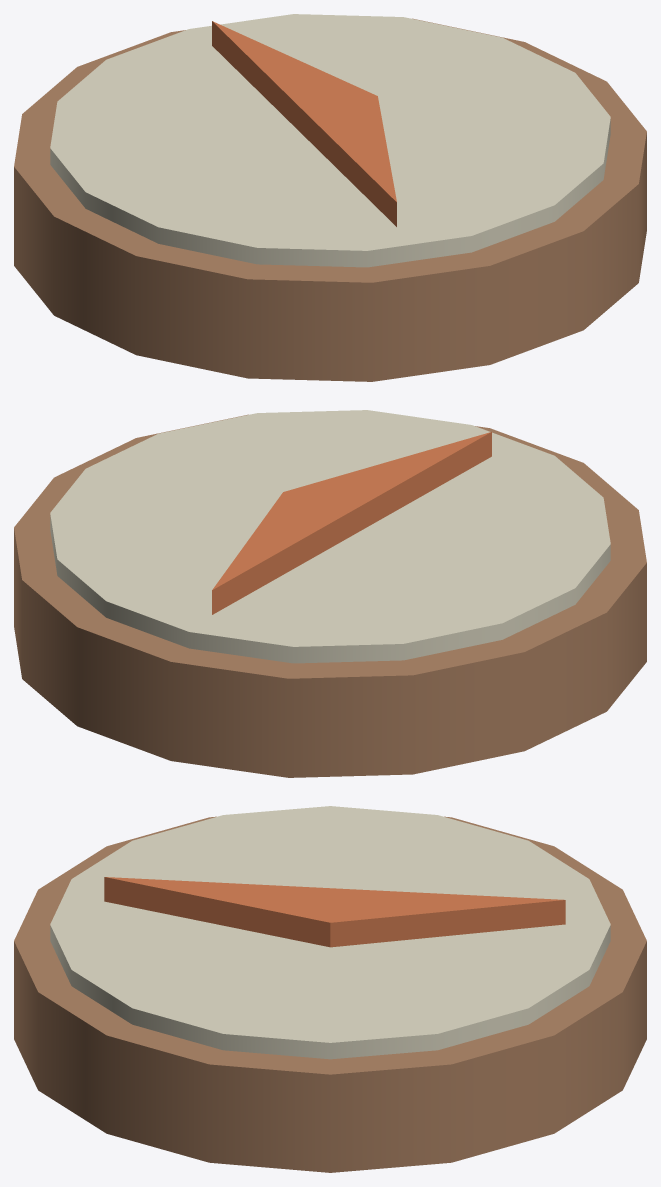
File: scavengers-loot-library-compass-04ad6e83__2643.glb
3 views of the same model, one above another, from view 1: azimuth 30°, elevation 25°; view 2: azimuth 150°, elevation 25°; view 3: azimuth 270°, elevation 25° (orthographic).
Visible parts, largest first — view 1: compass; view 2: compass; view 3: compass.
Boxes of the visible parts, x1,y1,x2,y2 form: compass: [14, 14, 646, 381]; compass: [14, 410, 646, 777]; compass: [14, 806, 646, 1172].
Size of the model in its own units: 0.07 by 0.017 by 0.07.
